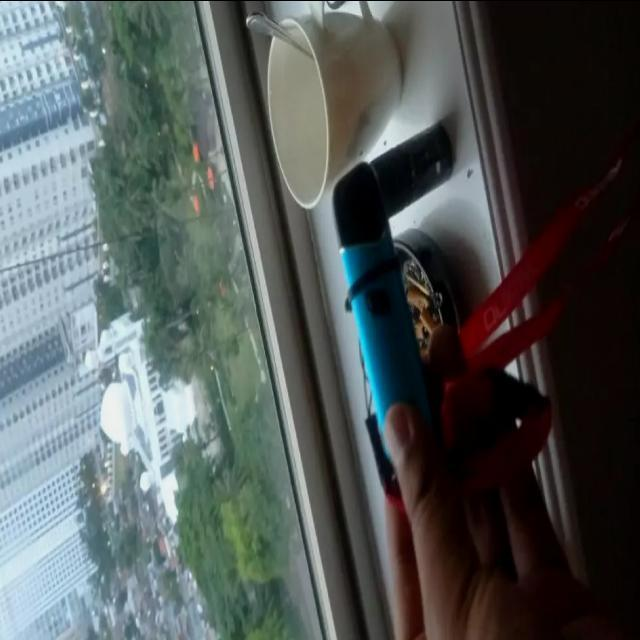Hazard: (328, 157, 426, 484)
